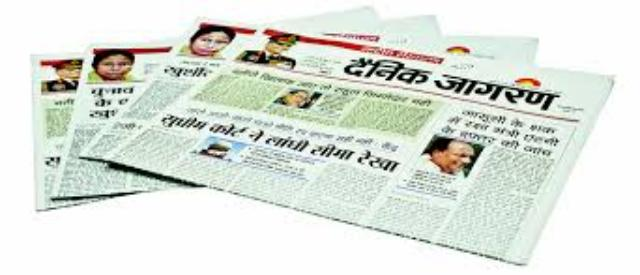cardboard paper: (34, 6, 610, 260), (39, 97, 65, 137)
